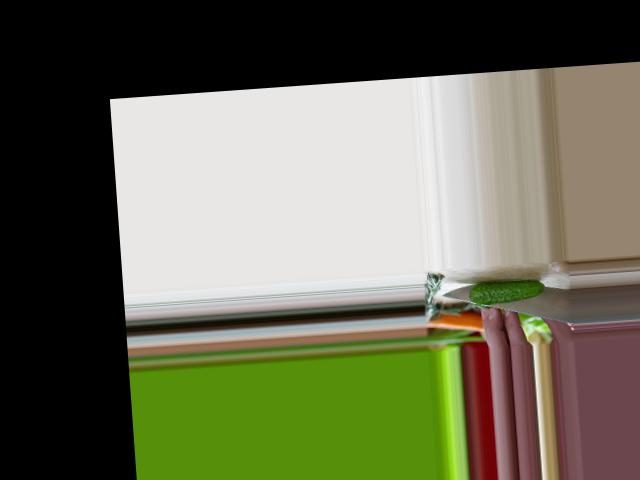cucumber: (467, 277, 544, 305)
